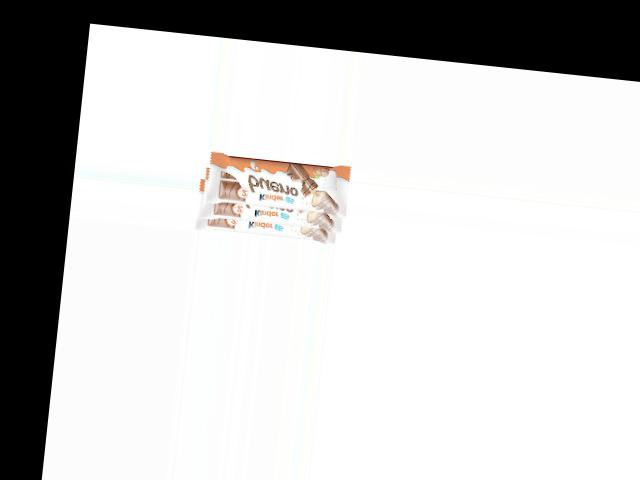chocolate: (195, 149, 348, 245)
